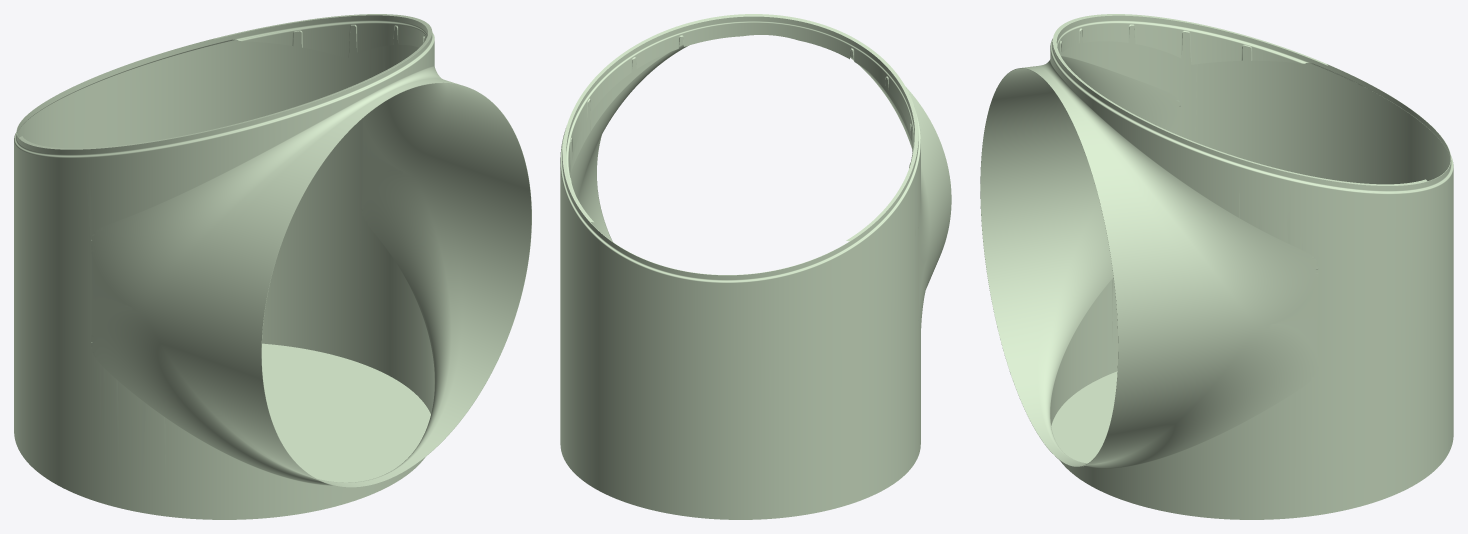
File: Joint_1.fbx
The picture shows the model from 3 angles, left to right: view 1: azimuth 30°, elevation 25°; view 2: azimuth 150°, elevation 25°; view 3: azimuth 270°, elevation 25°; orthographic projection. The views are drawn at different scales.
Parts seen in each view (by area): view 1: Joint_1.005; view 2: Joint_1.005; view 3: Joint_1.005.
Boxes of the visible parts, bbox=[...] form: Joint_1.005: bbox=[14, 14, 531, 519]; Joint_1.005: bbox=[560, 14, 951, 519]; Joint_1.005: bbox=[980, 14, 1453, 519].
Size of the model in its own units: 17.29 by 16.3 by 17.6.
